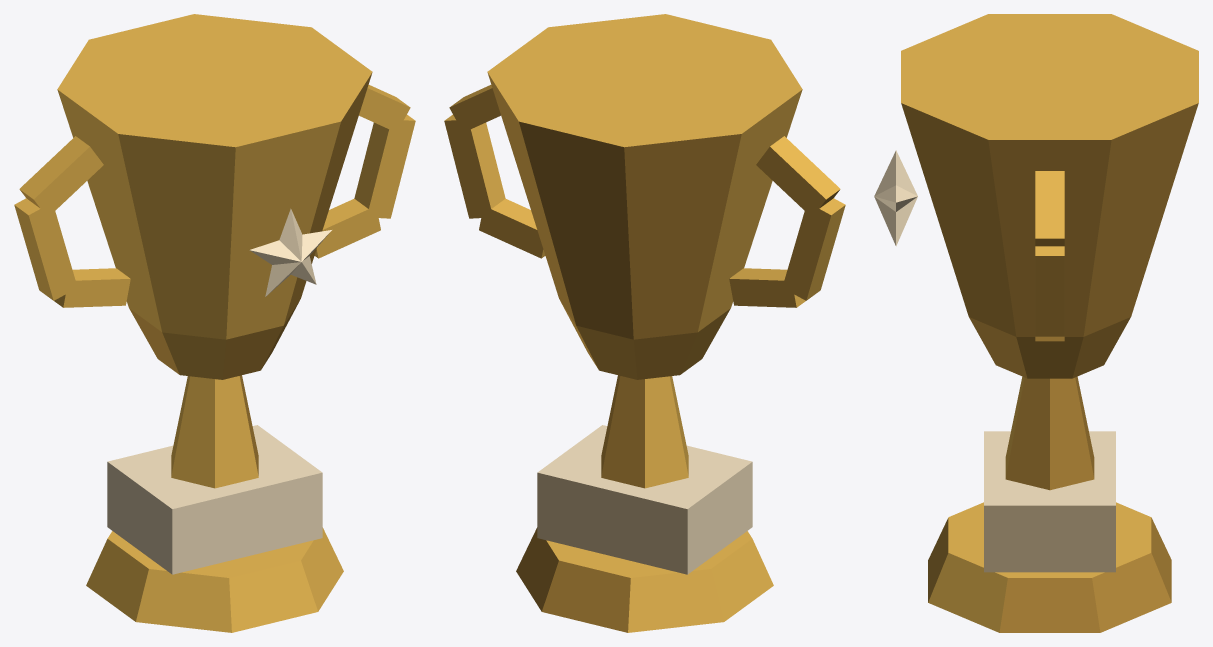
Rendered from trophy_paper.glb.
3 views of the same model, side by side, from view 1: azimuth 30°, elevation 25°; view 2: azimuth 150°, elevation 25°; view 3: azimuth 270°, elevation 25° (orthographic).
Parts seen in each view (by area): view 1: trophy; view 2: trophy; view 3: trophy.
Boxes of the visible parts, left/top/right/bottom form: trophy: left=14, top=14, right=415, bottom=632; trophy: left=444, top=14, right=845, bottom=632; trophy: left=874, top=14, right=1198, bottom=632.
Size of the model in its own units: 0.0618 by 0.076 by 0.0443.
